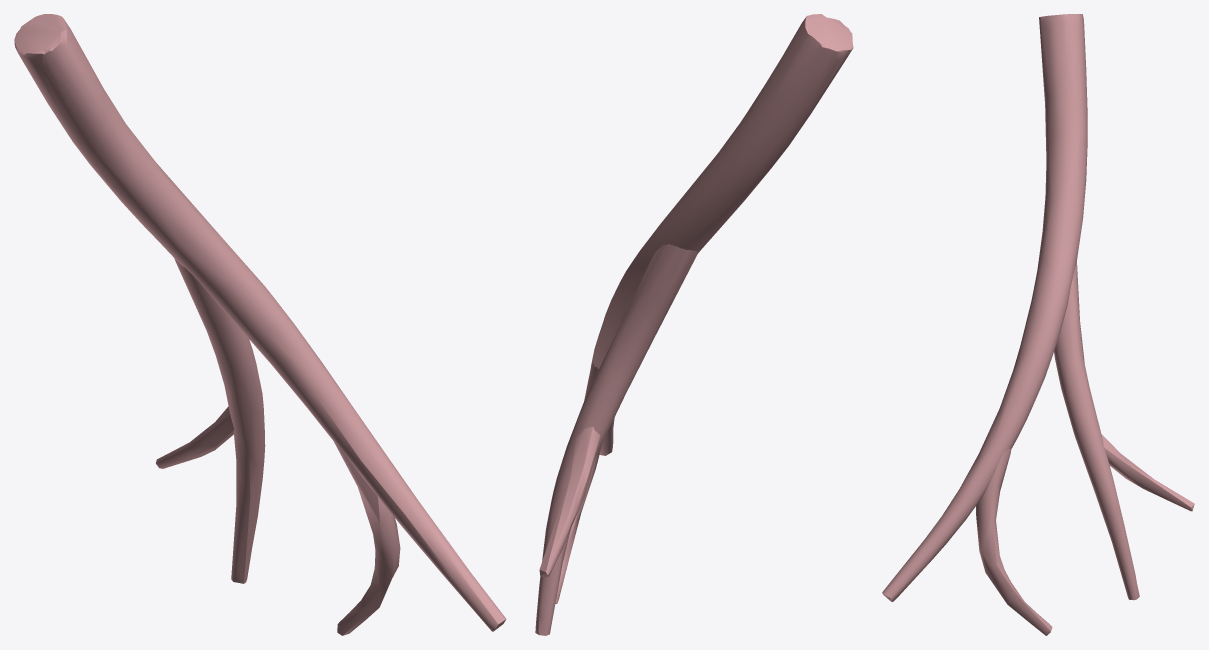
Rendered from fma68232_cx169.glb.
3 renders of one model, left to right at view 1: azimuth 30°, elevation 25°; view 2: azimuth 150°, elevation 25°; view 3: azimuth 270°, elevation 25°, orthographic. The views are drawn at different scales.
Parts seen in each view (by area): view 1: FMA68232_CX169; view 2: FMA68232_CX169; view 3: FMA68232_CX169.
Part boxes in pixels (x1,y1,x2,y2): FMA68232_CX169: (14, 14, 506, 635); FMA68232_CX169: (535, 14, 853, 635); FMA68232_CX169: (882, 14, 1194, 635).
Size of the model in its own units: 0.0546 by 0.0943 by 0.0516.
